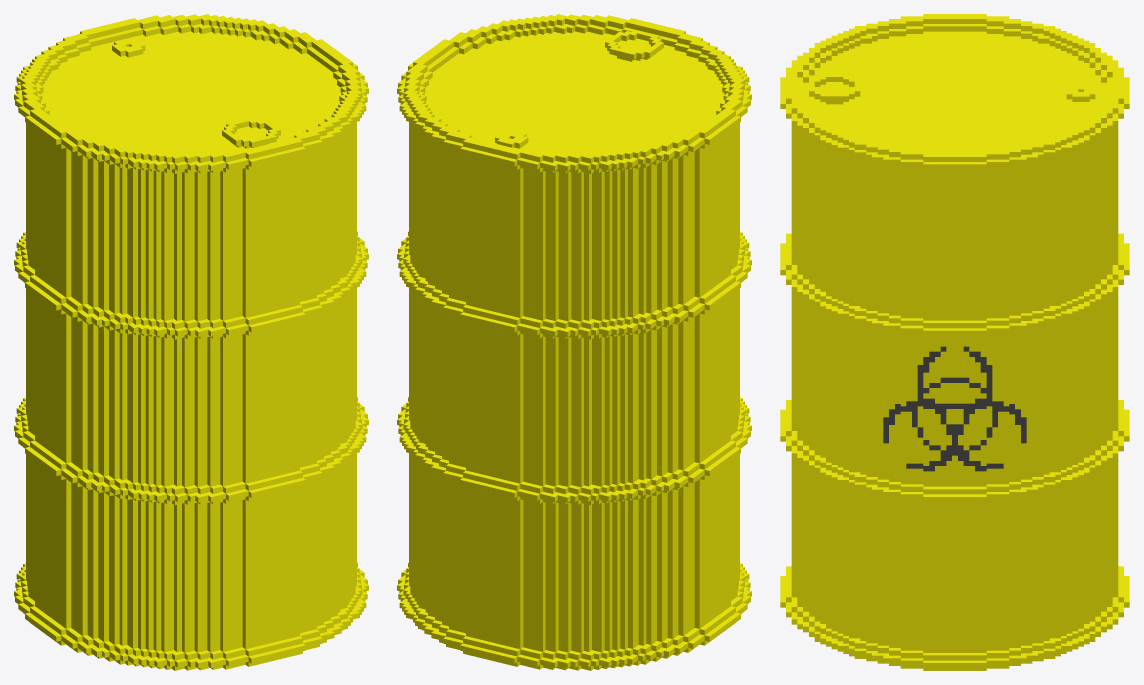
Rendered from Drum Barrel1-2.fbx.
The picture shows the model from 3 angles, left to right: view 1: azimuth 30°, elevation 25°; view 2: azimuth 150°, elevation 25°; view 3: azimuth 270°, elevation 25°; orthographic projection.
Parts seen in each view (by area): view 1: Drum Barrel1-2; view 2: Drum Barrel1-2; view 3: Drum Barrel1-2.
Part boxes in pixels (x1=…): Drum Barrel1-2: x1=14, y1=14, x2=368, y2=670; Drum Barrel1-2: x1=397, y1=14, x2=751, y2=670; Drum Barrel1-2: x1=780, y1=14, x2=1129, y2=670.
Size of the model in its own units: 6.1 by 9.9 by 6.1.
